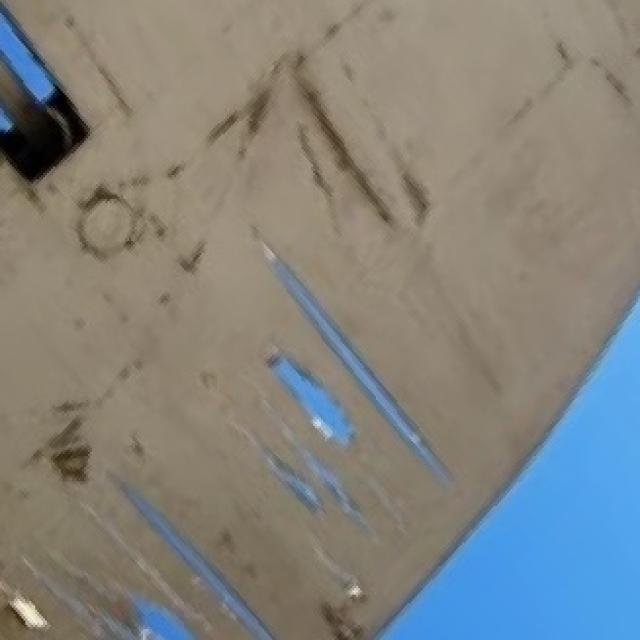crack: (3, 222, 471, 631)
